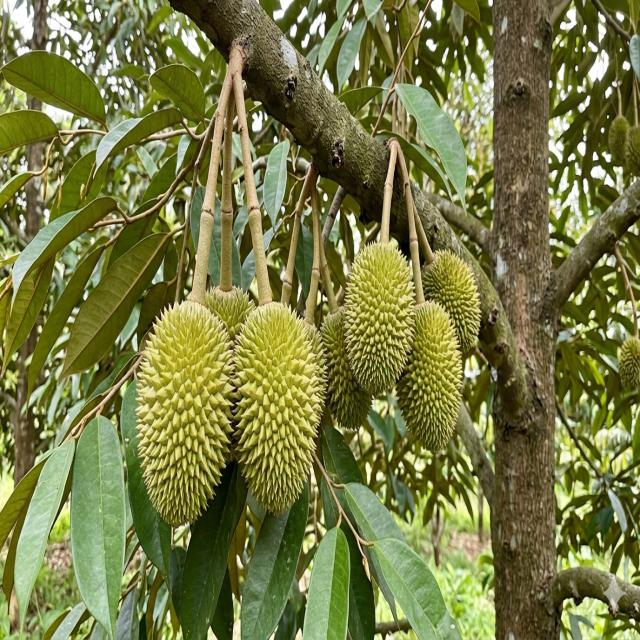immature: (134, 299, 238, 527), (228, 299, 327, 515), (342, 240, 415, 396), (394, 303, 465, 452), (422, 248, 482, 356), (322, 309, 371, 430), (205, 284, 254, 345), (298, 318, 327, 404), (420, 255, 447, 302), (618, 335, 640, 392), (608, 115, 630, 163), (623, 126, 640, 174)
